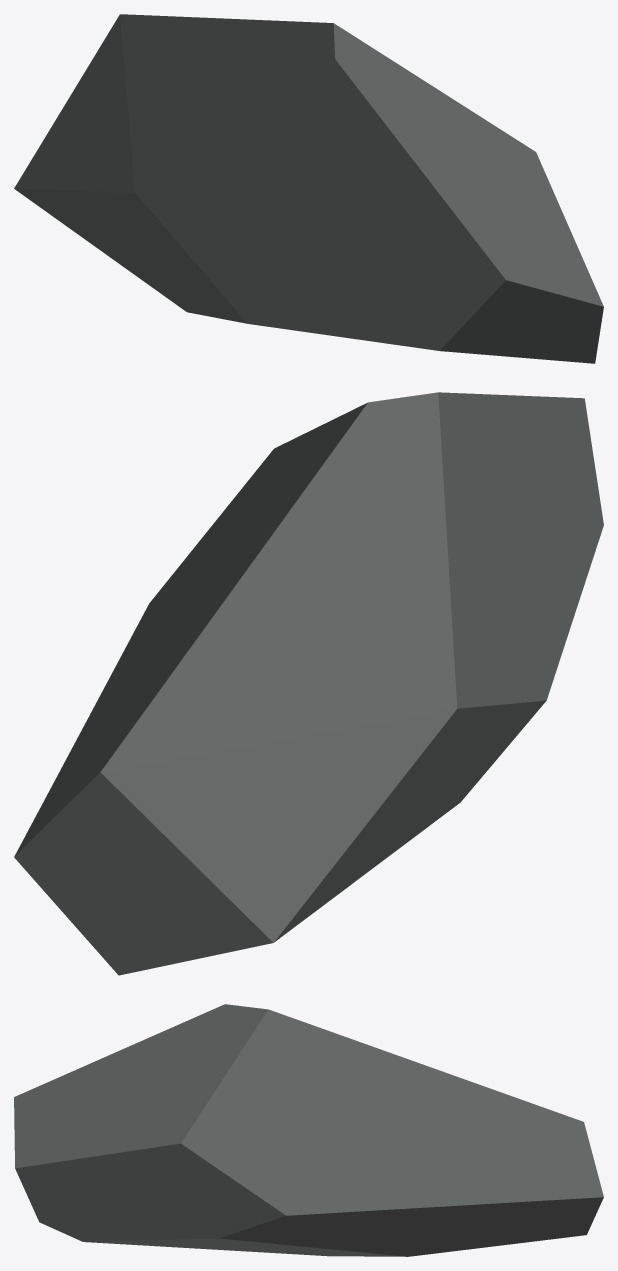
The model's file is RockLarge_02.glb.
3 renders of one model, top to bottom at view 1: azimuth 30°, elevation 25°; view 2: azimuth 150°, elevation 25°; view 3: azimuth 270°, elevation 25°, orthographic. The views are drawn at different scales.
Parts seen in each view (by area): view 1: RockLarge_02; view 2: RockLarge_02; view 3: RockLarge_02.
Part boxes in pixels (bbox=[...]): RockLarge_02: bbox=[14, 14, 603, 363]; RockLarge_02: bbox=[14, 392, 603, 975]; RockLarge_02: bbox=[14, 1004, 603, 1256].
Size of what is drawn, in the model's own units: 1.69 by 1.74 by 3.89.
Materials: 1 (1 with a texture image).
